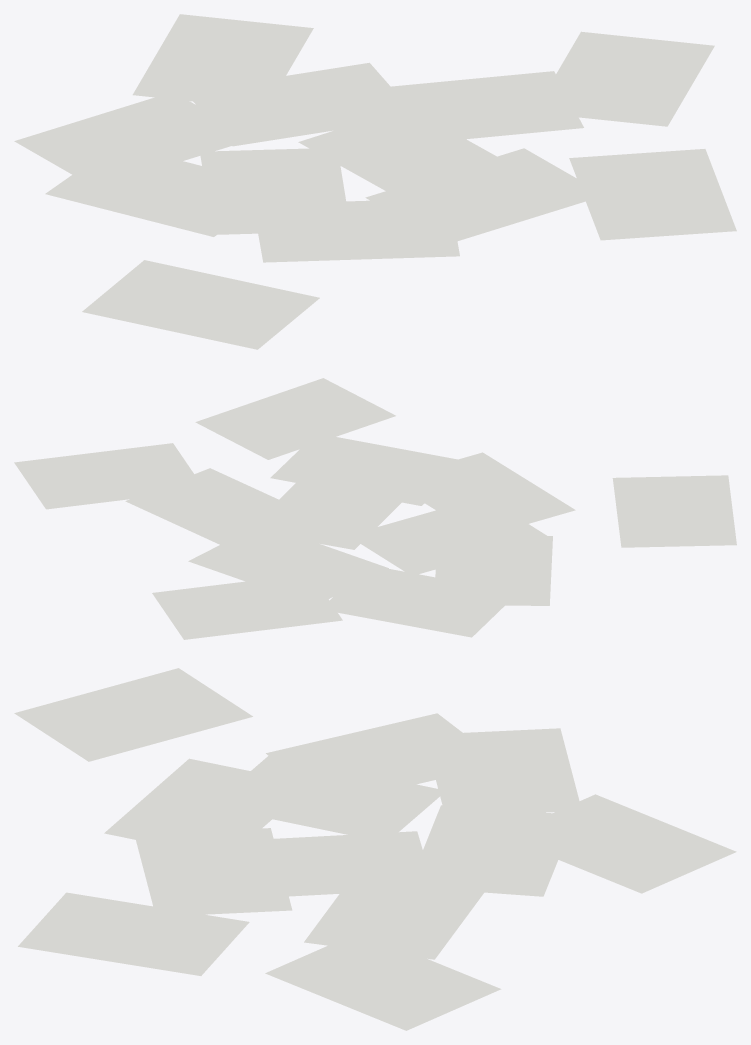
The model's file is PilhaPapeis1.fbx.
3 renders of one model, top to bottom at view 1: azimuth 30°, elevation 25°; view 2: azimuth 150°, elevation 25°; view 3: azimuth 270°, elevation 25°, orthographic. The views are drawn at different scales.
Parts seen in each view (by area): view 1: Plane.008, Plane.009, Plane.011, Plane.006, Plane.010, Plane.003, Plane.001, Plane.005, Plane.004, Plane.007, Plane.002, Plane; view 2: Plane.011, Plane.009, Plane.008, Plane.006, Plane.010, Plane.005, Plane.003, Plane.001, Plane.004, Plane.007, Plane, Plane.002; view 3: Plane.011, Plane.009, Plane.008, Plane.006, Plane.010, Plane.001, Plane.005, Plane.003, Plane.004, Plane, Plane.007, Plane.002.
Boxes of the visible parts, x1=… form: Plane.008: x1=82, y1=260, x2=319, y2=349; Plane.009: x1=569, y1=149, x2=736, y2=240; Plane.011: x1=132, y1=14, x2=313, y2=108; Plane.006: x1=14, y1=97, x2=231, y2=187; Plane.010: x1=556, y1=31, x2=714, y2=126; Plane.003: x1=193, y1=62, x2=417, y2=146; Plane.001: x1=298, y1=108, x2=526, y2=194; Plane.005: x1=365, y1=148, x2=585, y2=244; Plane.004: x1=45, y1=161, x2=284, y2=236; Plane.007: x1=391, y1=71, x2=583, y2=139; Plane.002: x1=253, y1=200, x2=459, y2=262; Plane: x1=200, y1=148, x2=350, y2=234; Plane.011: x1=152, y1=573, x2=342, y2=639; Plane.009: x1=195, y1=378, x2=395, y2=459; Plane.008: x1=612, y1=475, x2=736, y2=547; Plane.006: x1=329, y1=568, x2=517, y2=637; Plane.010: x1=14, y1=443, x2=202, y2=509; Plane.005: x1=270, y1=437, x2=467, y2=505; Plane.003: x1=188, y1=523, x2=388, y2=599; Plane.001: x1=249, y1=466, x2=401, y2=549; Plane.004: x1=435, y1=535, x2=552, y2=605; Plane.007: x1=125, y1=468, x2=278, y2=544; Plane: x1=361, y1=496, x2=546, y2=575; Plane.002: x1=425, y1=452, x2=575, y2=537; Plane.011: x1=500, y1=794, x2=736, y2=893; Plane.009: x1=18, y1=892, x2=249, y2=975; Plane.008: x1=14, y1=668, x2=252, y2=761; Plane.006: x1=424, y1=728, x2=579, y2=812; Plane.010: x1=265, y1=945, x2=501, y2=1030; Plane.001: x1=229, y1=831, x2=431, y2=898; Plane.005: x1=134, y1=828, x2=292, y2=914; Plane.003: x1=408, y1=805, x2=557, y2=896; Plane.004: x1=266, y1=713, x2=462, y2=803; Plane: x1=210, y1=754, x2=446, y2=834; Plane.007: x1=304, y1=889, x2=483, y2=959; Plane.002: x1=104, y1=758, x2=310, y2=839.
Size of the model in its own units: 652 by 9.53e-05 by 549.
Materials: 12 (12 with a texture image).
